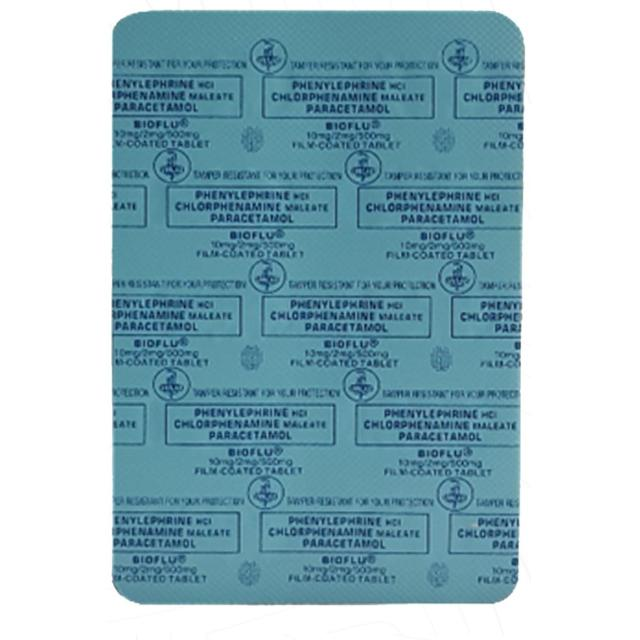blister: (112, 0, 522, 609)
